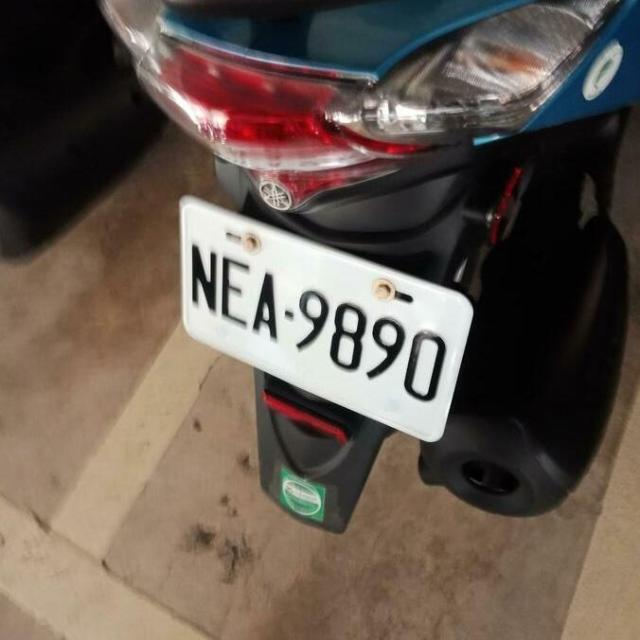W: (158, 193, 488, 451)
